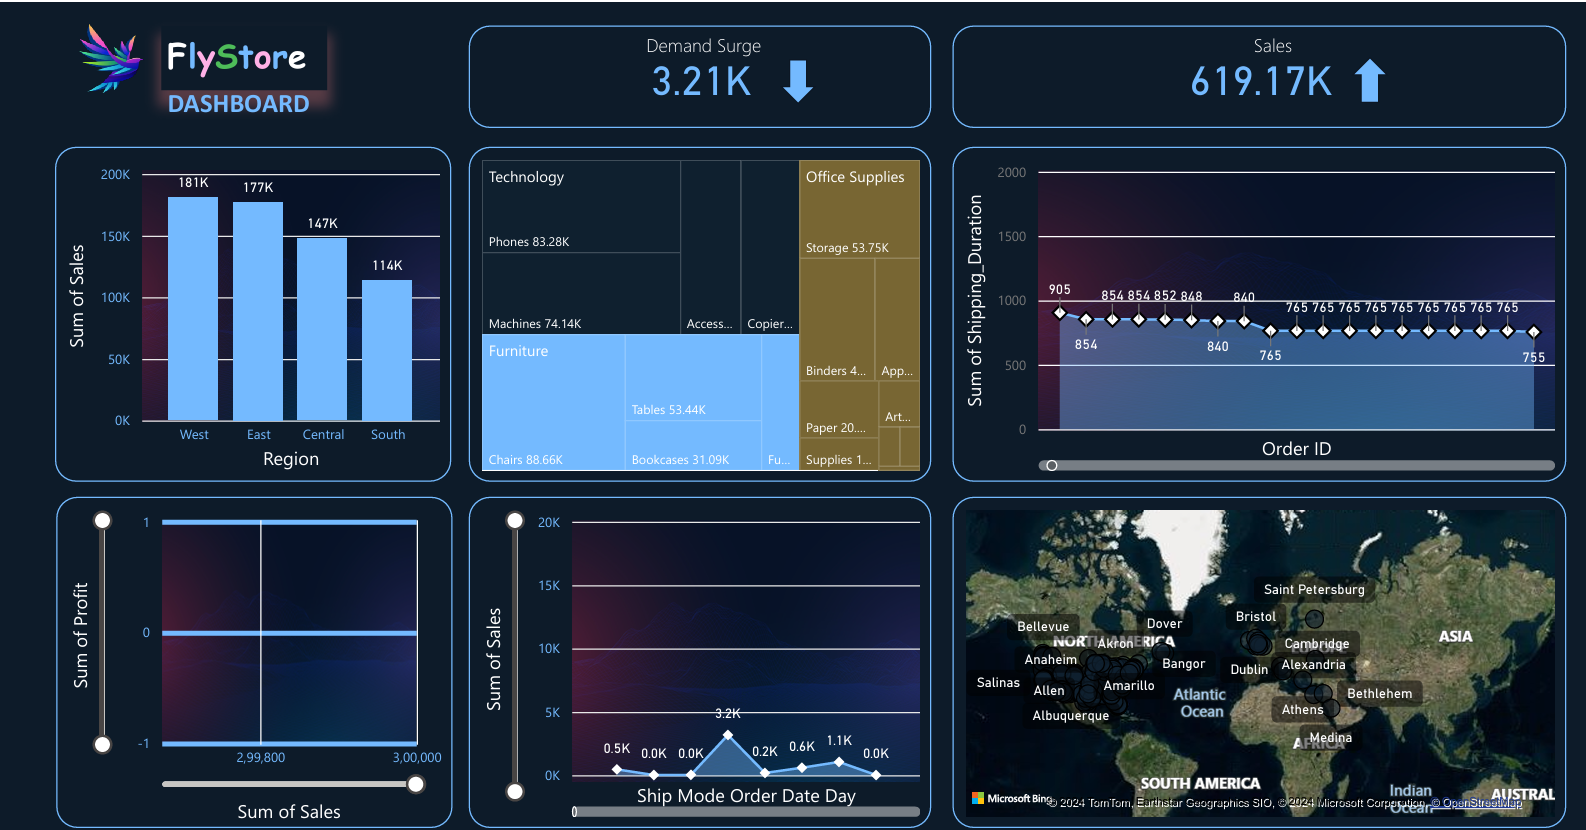

Layout of this report page (visuals, bound fields, positions):
{"tool":"powerbi","page":{"name":"Page 1","canvas":[1280,720],"ordinal":0},"visuals":[{"type":"columnChart","fields":{"Category":["cleaned_data.Region"],"Y":["Sum(cleaned_data.Sales)"]},"box":[43.9,115.3,317,267.6],"z":0},{"type":"treemap","fields":{"Group":["cleaned_data.Category"],"Details":["cleaned_data.Sub-Category"],"Values":["Sum(cleaned_data.Sales)"]},"box":[374.6,115.3,370.5,267.6],"z":1000},{"type":"lineChart","fields":{"Y":["Sum(cleaned_data.Shipping_Duration)"],"Category":["cleaned_data.Order ID"]},"box":[761.6,115.3,491.3,267.6],"z":2000},{"type":"scatterChart","fields":{"Category":["cleaned_data.Segment"],"X":["Sum(cleaned_data.Sales)"],"Y":["Sum(cleaned_data.Profit)"]},"box":[45.3,395.2,317,264.8],"z":3000},{"type":"card","fields":{"Values":["Sum(cleaned_data.Sales)"]},"box":[761.6,17.8,491.3,82.3],"z":4000},{"type":"areaChart","fields":{"Category":["cleaned_data.Ship Mode","cleaned_data.Order Date.Variation.Date Hierarchy.Year","cleaned_data.Order Date.Variation.Date Hierarchy.Quarter","cleaned_data.Order Date.Variation.Date Hierarchy.Month","cleaned_data.Order Date.Variation.Date Hierarchy.Day"],"Y":["Sum(cleaned_data.Sales)"]},"box":[374.6,395.2,370.5,264.8],"z":5000},{"type":"map","fields":{"Category":["cleaned_data.City"]},"box":[762,395,491,265],"z":6000},{"type":"textbox","box":[129,17.8,133.1,52.1],"z":7000},{"type":"image","box":[24.7,2.7,129,83.7],"z":8000},{"type":"textbox","box":[100,100,300,300],"z":9000},{"type":"textbox","box":[997.6,17.8,49.4,34.3],"z":10000},{"type":"shape","box":[1081.3,42.5,30.2,37],"z":11000},{"type":"textbox","box":[129,61.7,299.1,299.1],"z":12000},{"type":"textbox","box":[100.2,100.2,328,72.7],"z":13000},{"type":"card","fields":{"Values":["Sum(cleaned_data.Demand_Surge)"]},"box":[374.6,17.8,370.5,82.3],"z":14000},{"type":"textbox","box":[511.8,17.8,299.1,299.1],"z":15000},{"type":"shape","box":[624.4,45.3,28.8,35.7],"z":16000}]}

Visuals, with their boxes on the page's 1280x720 design canvas (x1, y1, x2, y2). These are canvas units, not pixel positions in the 1586x830 screenshot, which may show the page scaled, cropped or inside an application window:
columnChart - cleaned_data.Region x Sum(cleaned_data.Sales): Rect(44, 115, 361, 383)
treemap - cleaned_data.Category x cleaned_data.Sub-Category: Rect(375, 115, 745, 383)
lineChart - Sum(cleaned_data.Shipping_Duration) x cleaned_data.Order ID: Rect(762, 115, 1253, 383)
scatterChart - cleaned_data.Segment x Sum(cleaned_data.Sales): Rect(45, 395, 362, 660)
card - Sum(cleaned_data.Sales): Rect(762, 18, 1253, 100)
areaChart - cleaned_data.Ship Mode x cleaned_data.Order Date.Variation.Date Hierarchy.Year: Rect(375, 395, 745, 660)
map - cleaned_data.City: Rect(762, 395, 1253, 660)
textbox: Rect(129, 18, 262, 70)
image: Rect(25, 3, 154, 86)
textbox: Rect(100, 100, 400, 400)
textbox: Rect(998, 18, 1047, 52)
shape: Rect(1081, 42, 1112, 80)
textbox: Rect(129, 62, 428, 361)
textbox: Rect(100, 100, 428, 173)
card - Sum(cleaned_data.Demand_Surge): Rect(375, 18, 745, 100)
textbox: Rect(512, 18, 811, 317)
shape: Rect(624, 45, 653, 81)
